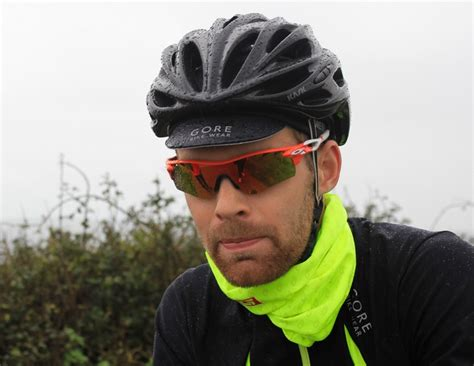com_capacete_bicicleta: (145, 11, 351, 289)
